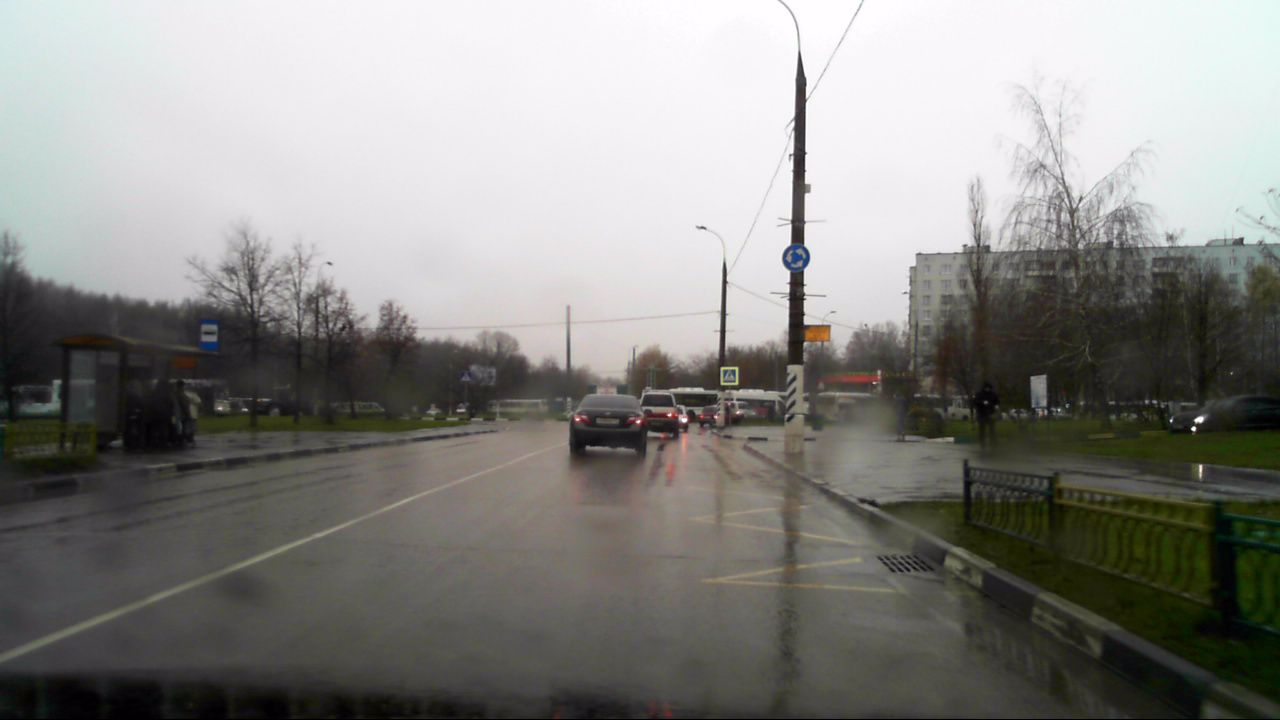Round-About: (781, 244, 810, 271)
